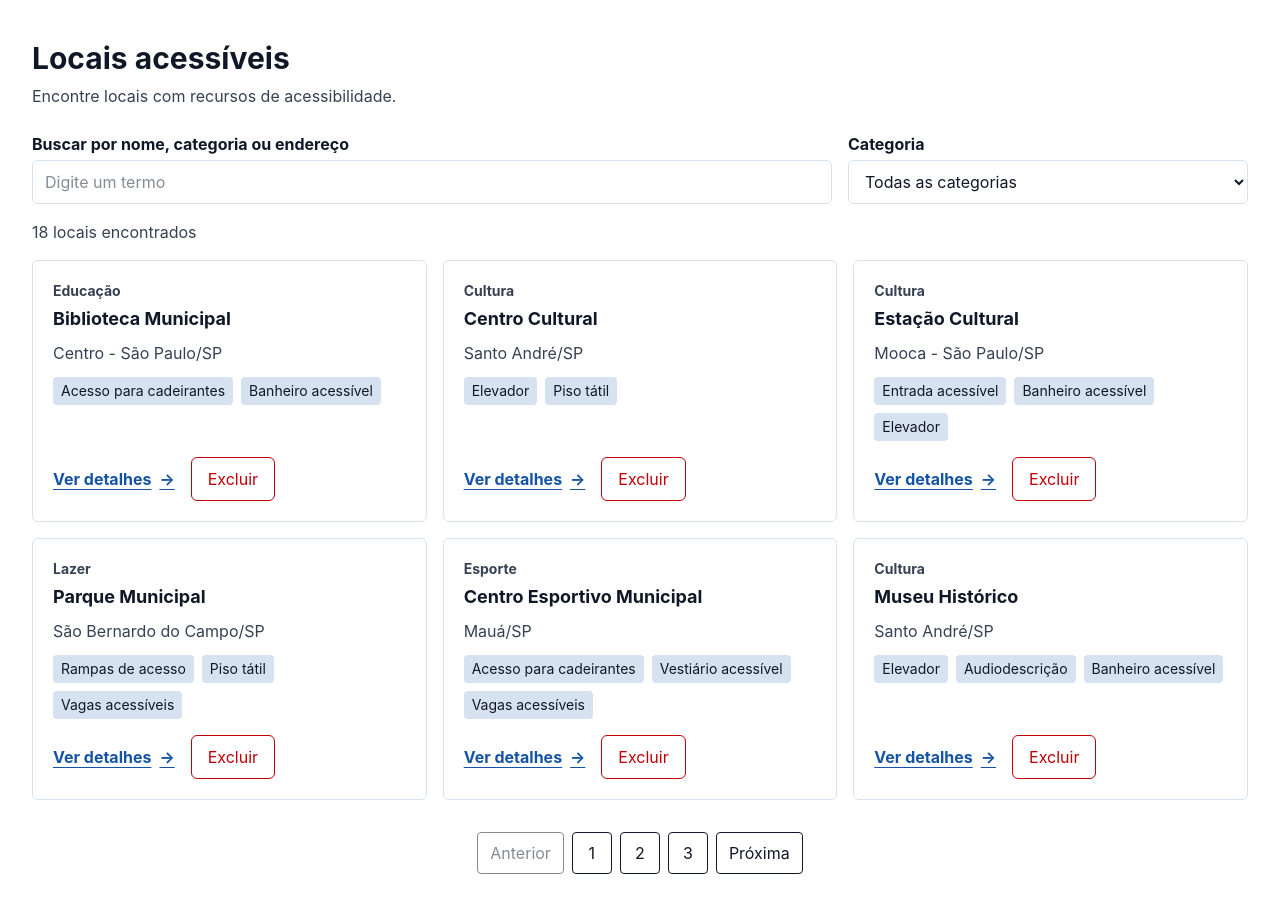
it: Página Locais — exclusão com confirmação › mostra erro se o local já tiver sido removido
Step 1. Click the button with aria-label "Excluir Parque Municipal" → (233, 757), box [191,735,275,779]
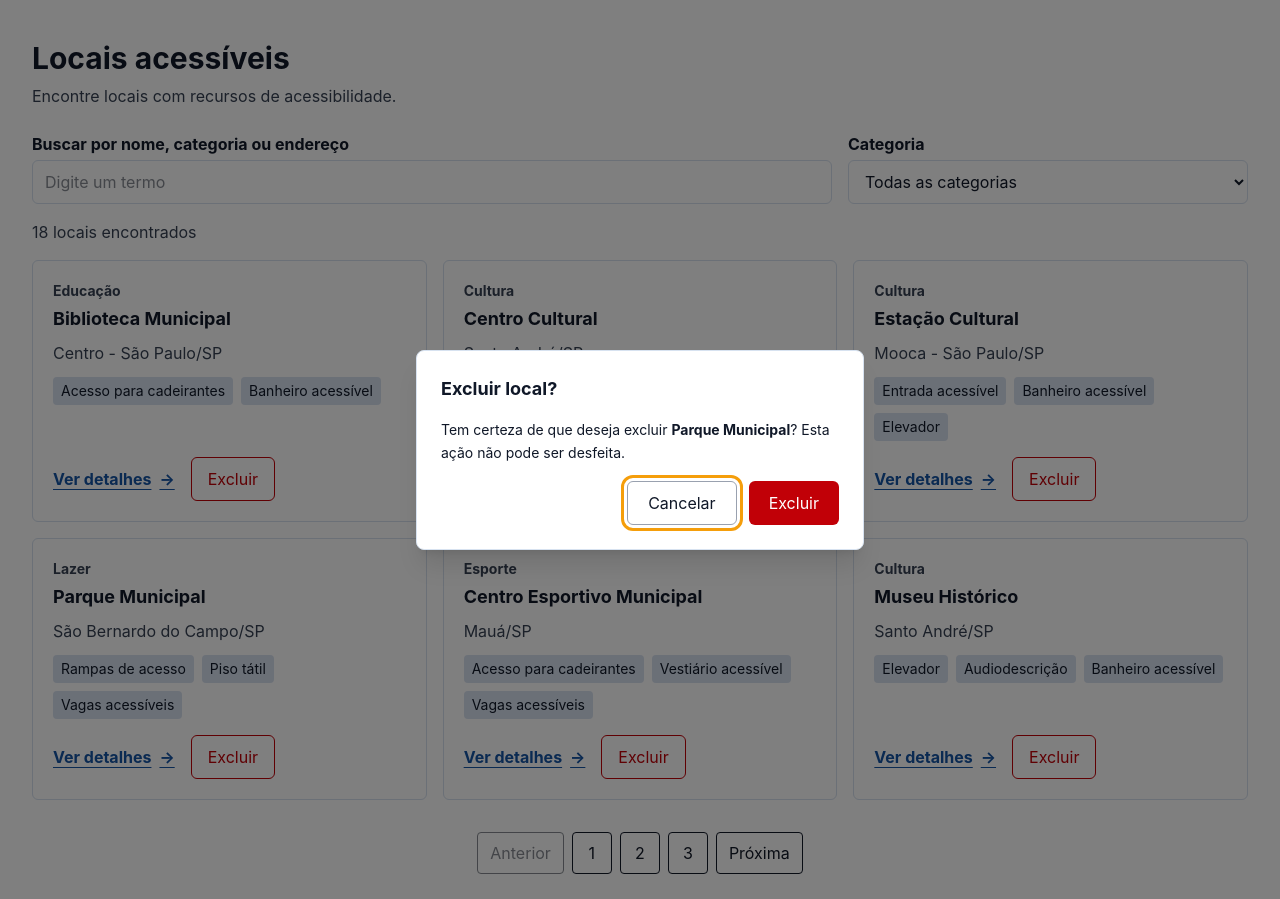
Step 2. Click the button "Excluir" → (794, 503), box [749,481,839,525]
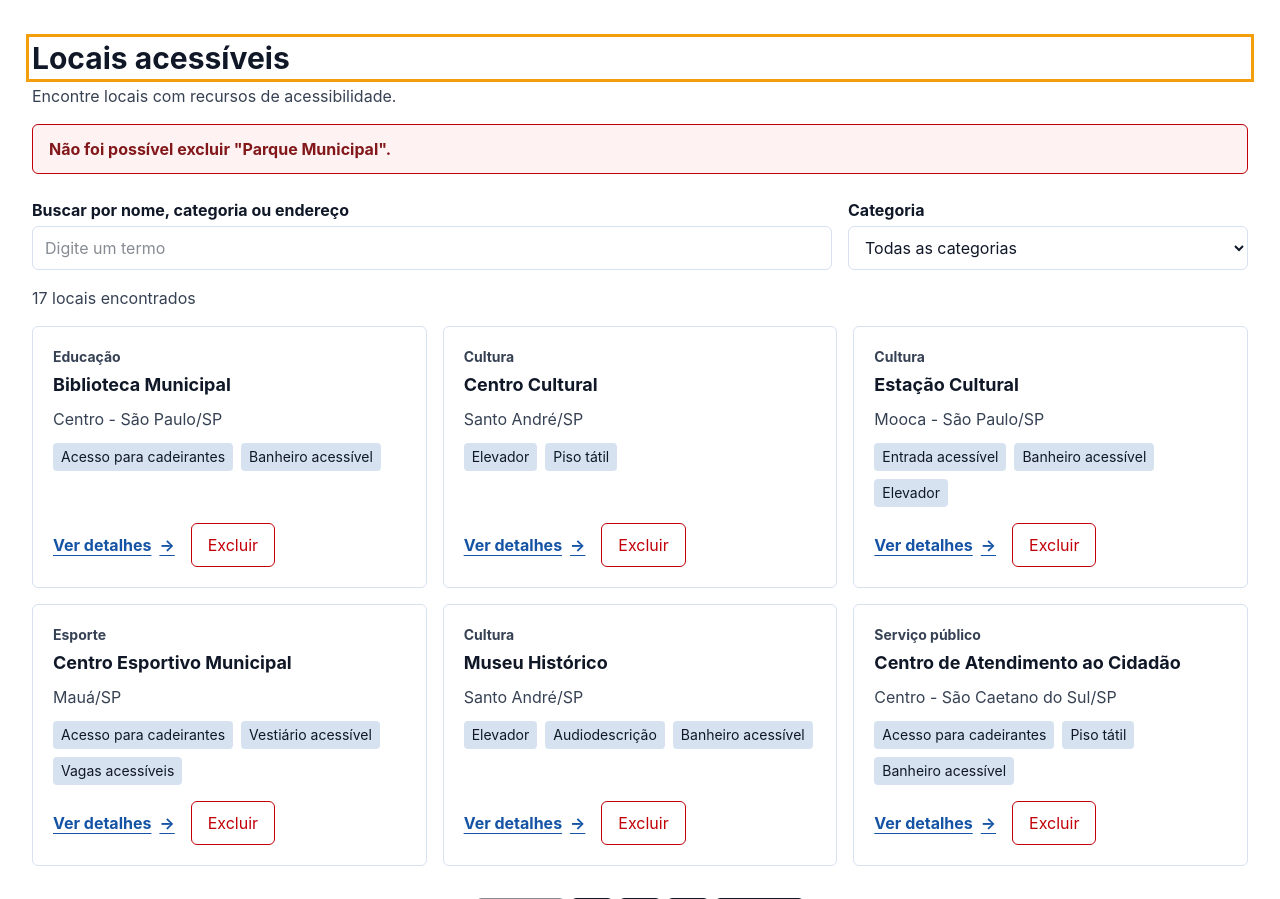
expect the text "Parque Municipal" is not shown: met
expect the text "Não foi possível excluir \"Parque Municipal\"." is shown: met, box [32,124,1248,174]
